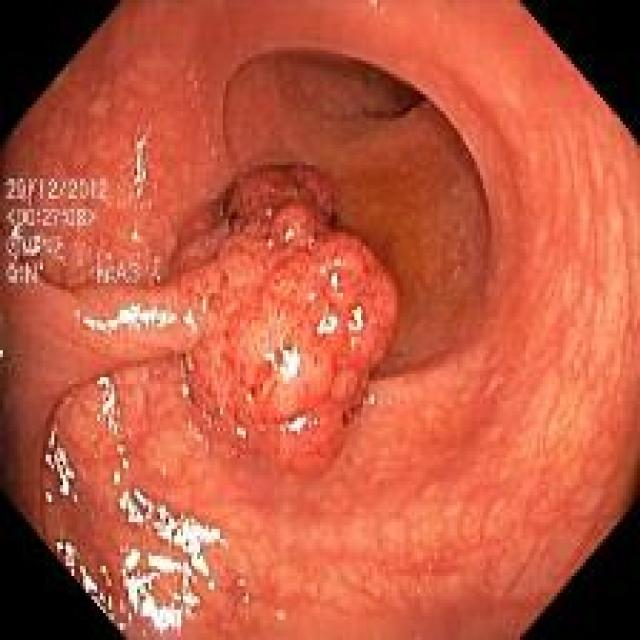Polyps: (172, 165, 399, 472)
